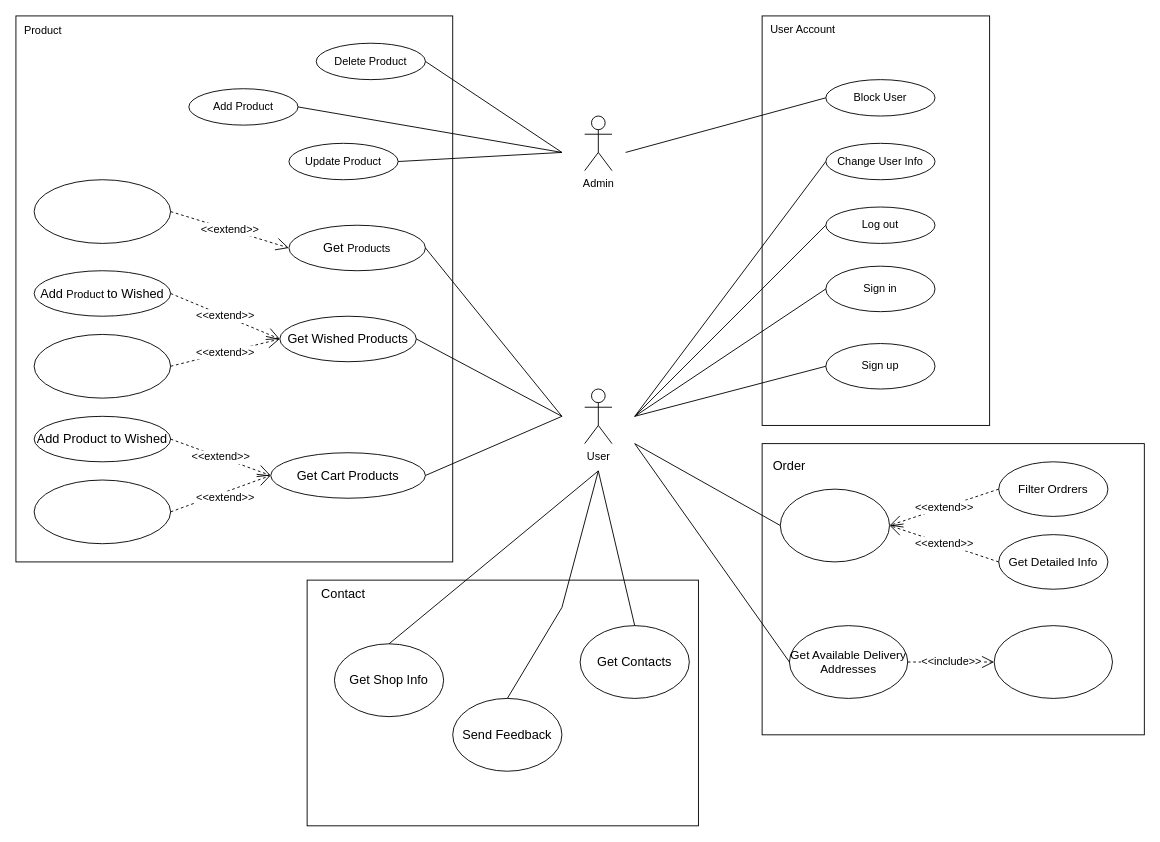
Some shapes in this 1160 by 842 pixel diagram are drawn without their labels. The shapes that lost their labels are listed below. From the top down, each one's box as (x1, y1, x2, y2) in pixels, then its label:
(33, 179, 171, 243): Sort Products
(33, 334, 171, 398): Remove Product from Wished
(33, 479, 171, 544): Remove Product from Favourites
(779, 488, 890, 562): Get All Orders
(993, 625, 1112, 698): Get Delivery Info
